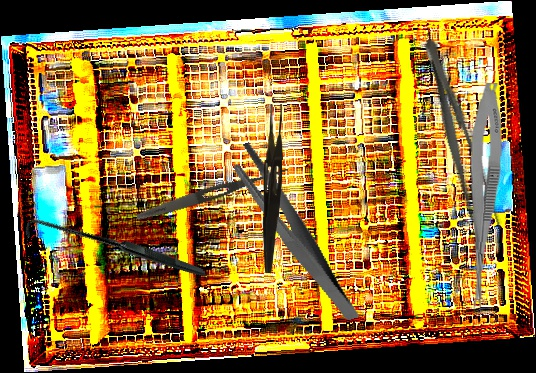Dressing Forceps: (227, 126, 360, 340), (411, 34, 507, 238), (134, 161, 291, 225), (261, 103, 284, 274)
Hook Surgical: (21, 156, 207, 347)
Micro Scissor: (464, 82, 506, 316)
